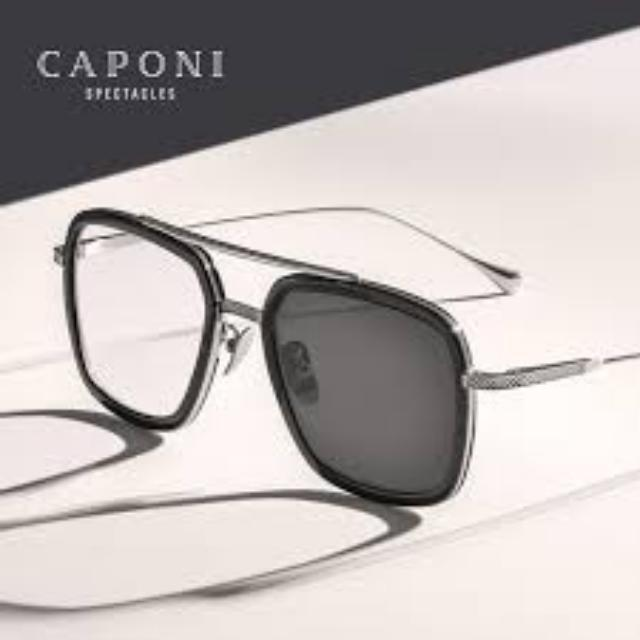sunglasses: (52, 204, 640, 510)
